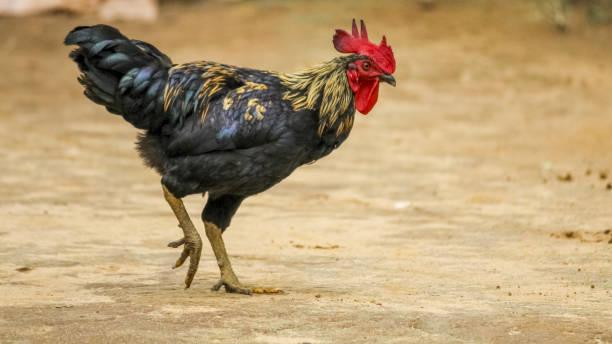AbNormal: (58, 23, 386, 304)
